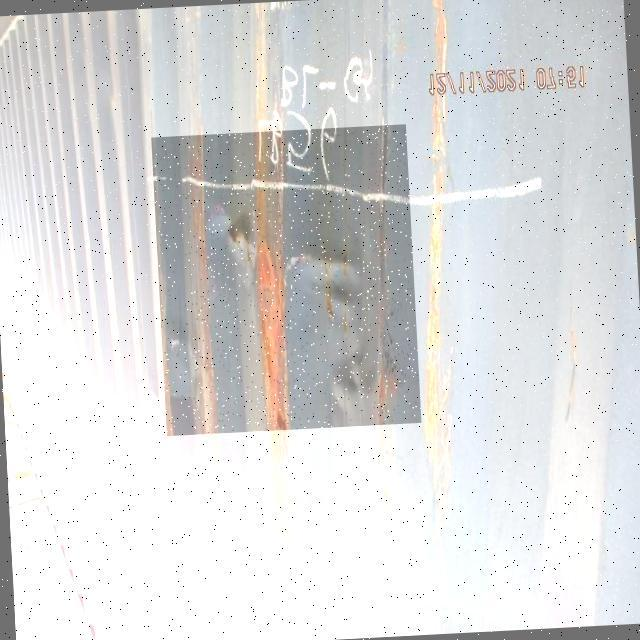Dent: (152, 124, 422, 436)
